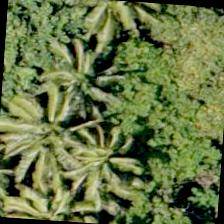Kelapa_Sawit: (52, 114, 148, 210), (36, 25, 132, 121), (0, 85, 95, 182), (4, 167, 98, 222)
